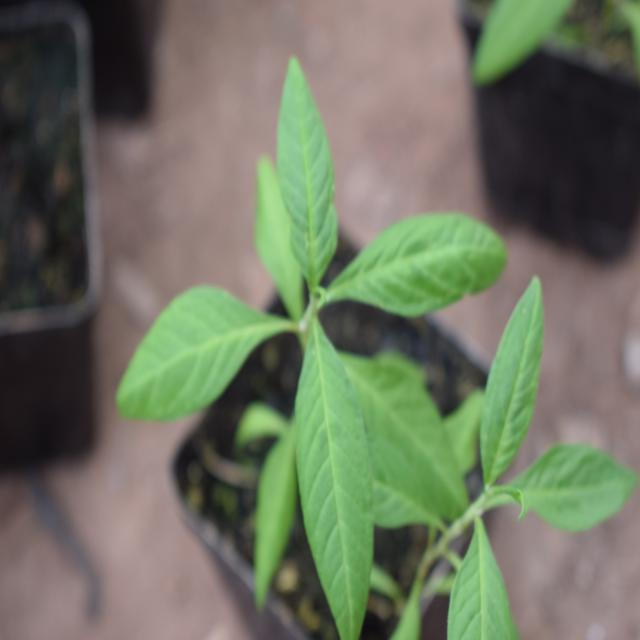white_smart_weed: (90, 82, 491, 574)
